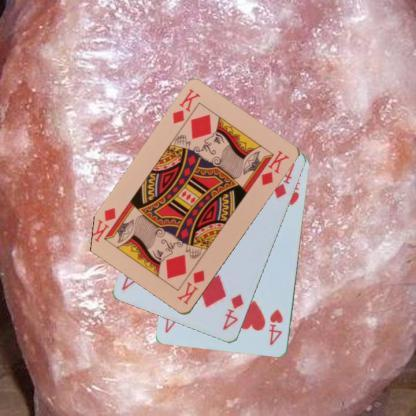4d: (220, 291, 246, 332)
4h: (266, 306, 284, 347)
Kd: (174, 268, 207, 306), (170, 86, 202, 125)
